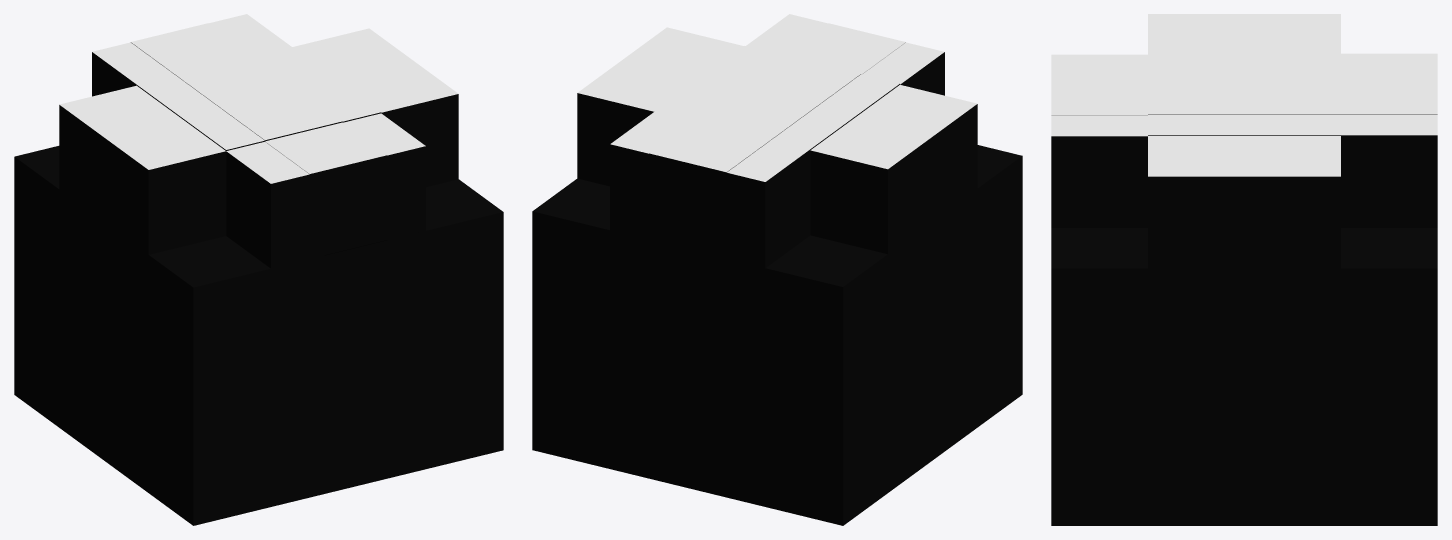
File: cross_path.glb
The picture shows the model from 3 angles, left to right: view 1: azimuth 30°, elevation 25°; view 2: azimuth 150°, elevation 25°; view 3: azimuth 270°, elevation 25°; orthographic projection. The views are drawn at different scales.
Visible parts, largest first — view 1: cross; view 2: cross; view 3: cross.
Part boxes in pixels (x1,y1,x2,y2): cross: (14, 14, 503, 525); cross: (532, 14, 1022, 525); cross: (1051, 14, 1437, 525).
Size of the model in its own units: 2 by 2 by 2.
1 material, 1 textured.
